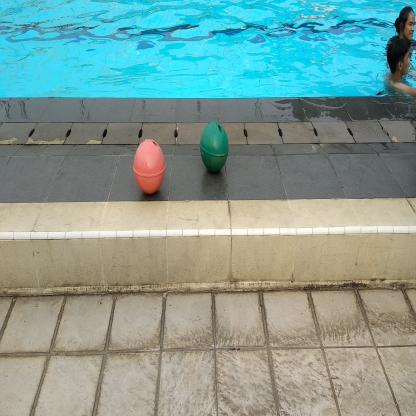green_buoy: (198, 119, 232, 178)
red_buoy: (132, 137, 169, 199)
